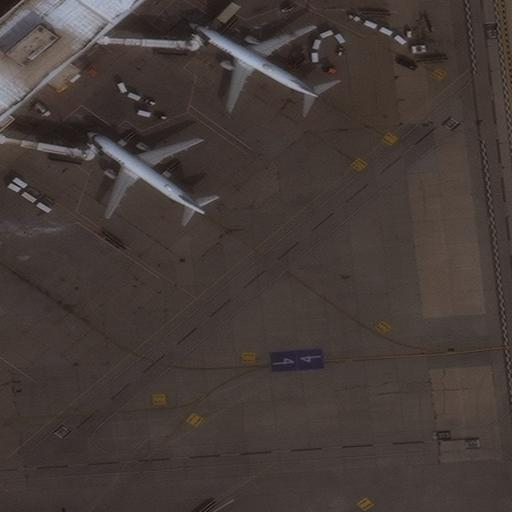Medium Civil Transport: (187, 21, 319, 109), (86, 131, 203, 216)
